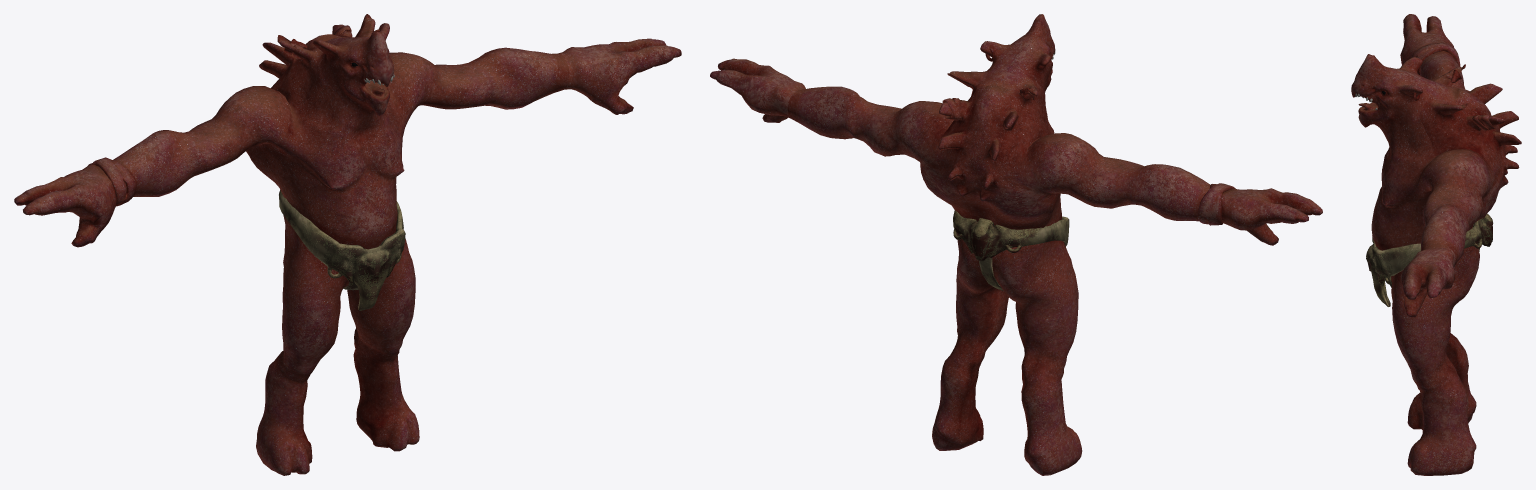
File: Meleemob.fbx
The picture shows the model from 3 angles, left to right: view 1: azimuth 30°, elevation 25°; view 2: azimuth 150°, elevation 25°; view 3: azimuth 270°, elevation 25°; orthographic projection. The views are drawn at different scales.
Parts seen in each view (by area): view 1: 4QuestMonster.001; view 2: 4QuestMonster.001; view 3: 4QuestMonster.001.
Part boxes in pixels (x1,y1,x2,y2): 4QuestMonster.001: [14, 14, 681, 475]; 4QuestMonster.001: [710, 14, 1322, 475]; 4QuestMonster.001: [1351, 14, 1521, 475].
Bounding box in the file's own units: 4.48 × 2.93 × 1.15.
